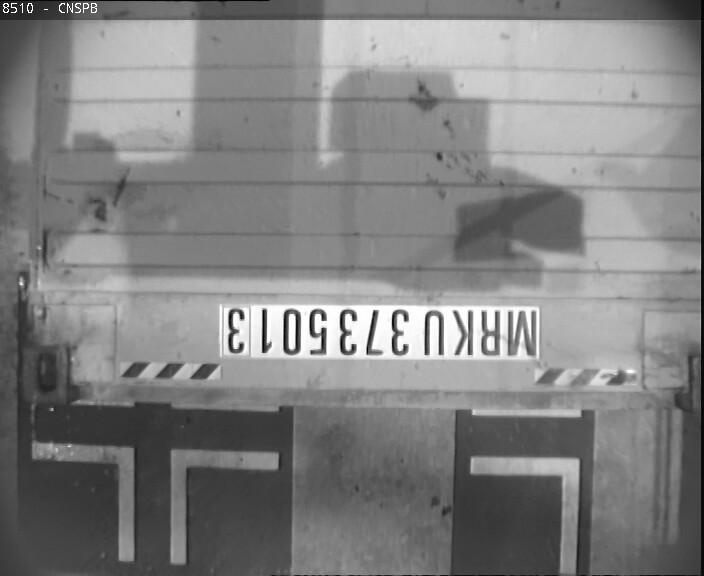groundmarker_1: (29, 442, 278, 563)
